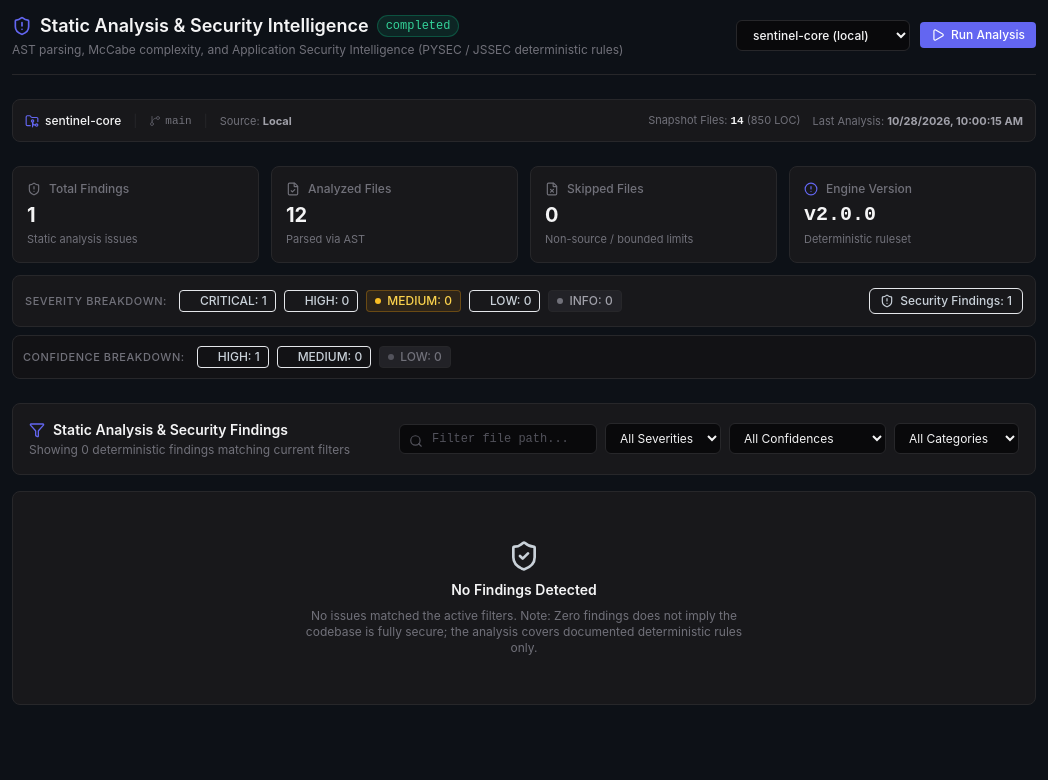
Test: AnalysisPage Component › prevents stale state by clearing analyses when switching repositories
The image size is (1048, 780).
expect the text "CRITICAL: 1" is shown: met, box [179,290,276,312]
Note: Switch to repo 2
Select "auth-gateway (github)" in the dropdown named "Select Repository" at (823, 35), box [736,20,910,50]
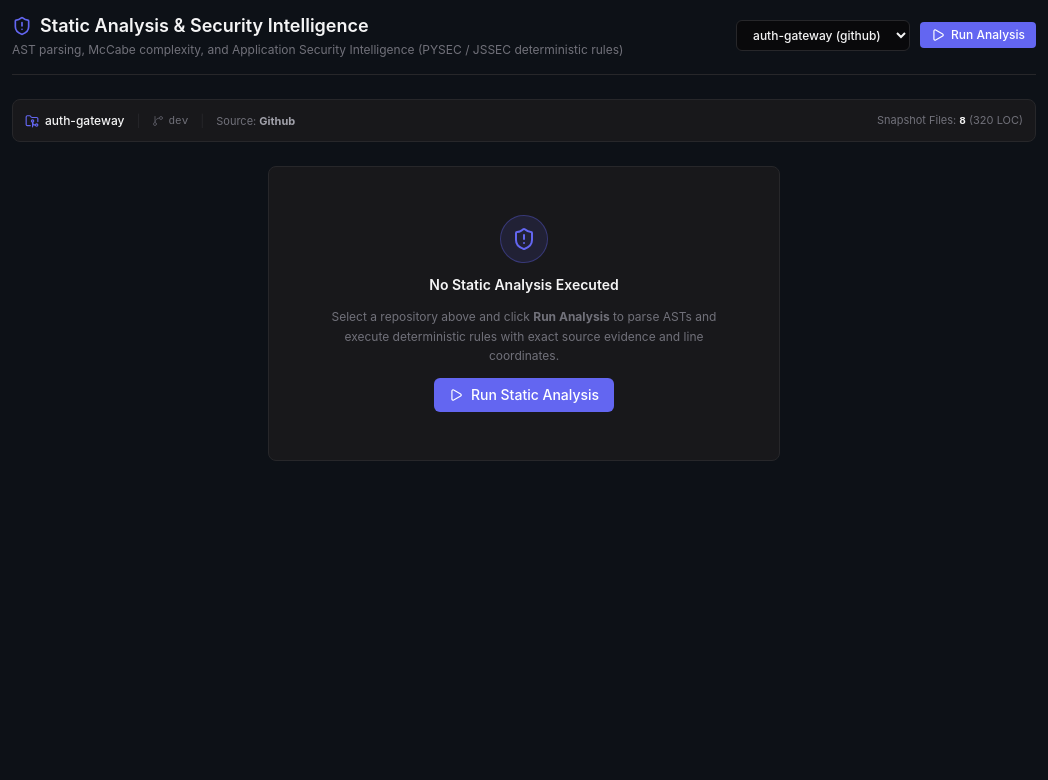
expect the heading "No Static Analysis Executed" is shown: met, box [429,276,619,293]
